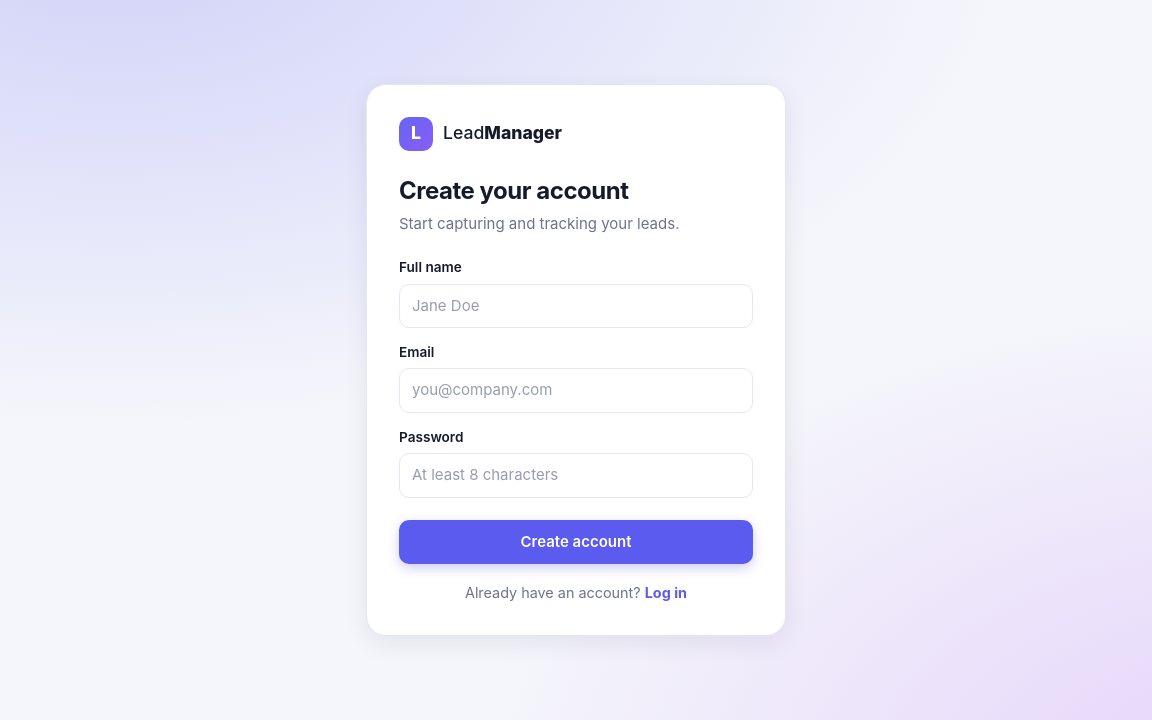
Test: Signup › shows the duplicate-email error from the server on the email field
Type "New User" into the field labelled "Full name" at (576, 306), box [399, 284, 753, 328]
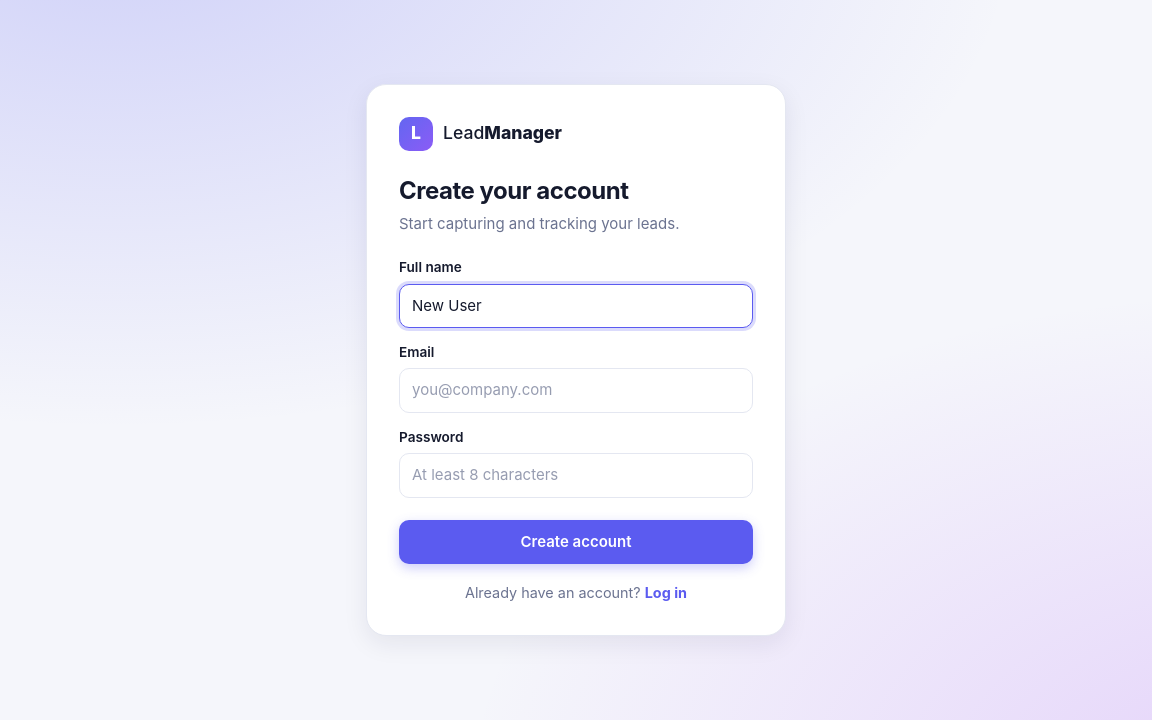
Type "new@example.com" into the field labelled "Email" at (576, 391), box [399, 368, 753, 413]
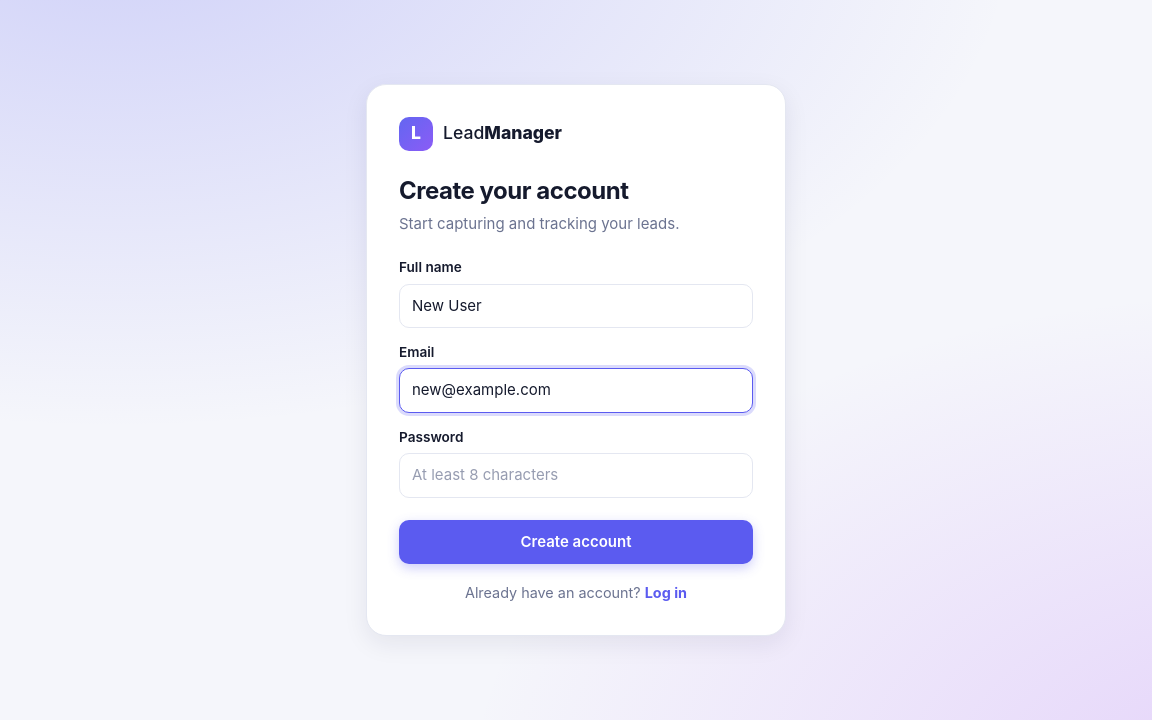
Type "password123" into the password field labelled "Password" at (576, 476), box [399, 453, 753, 498]
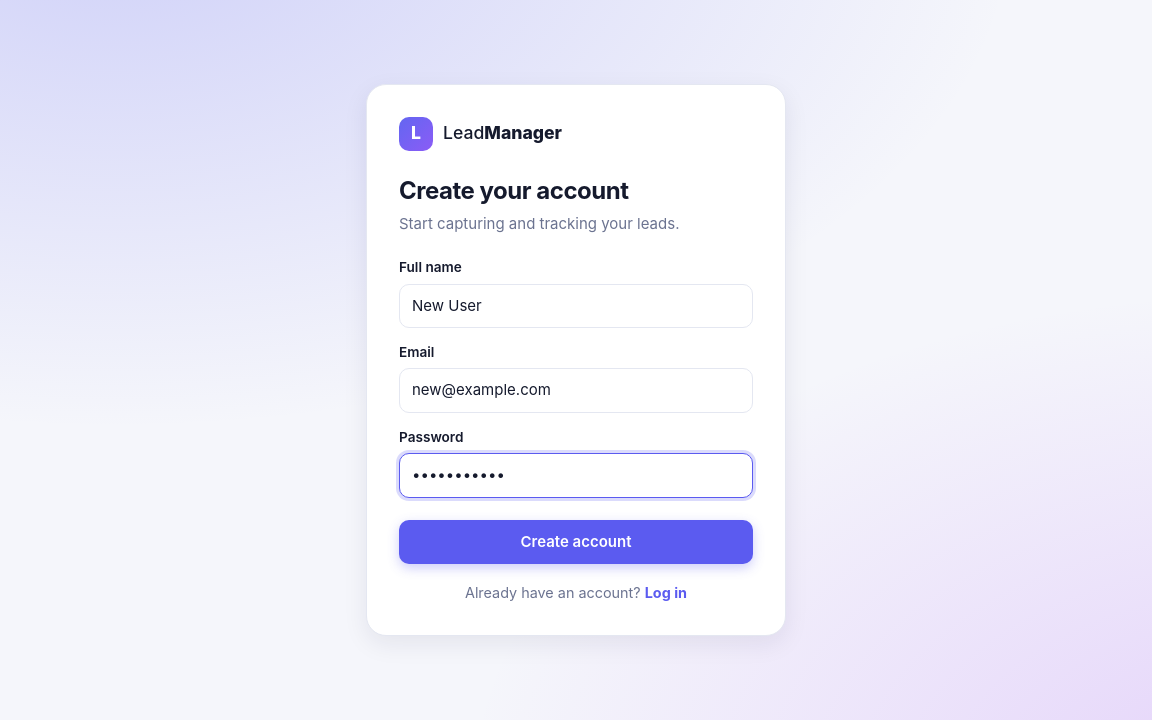
Click the button "Create account" at (576, 542), box [399, 520, 753, 564]
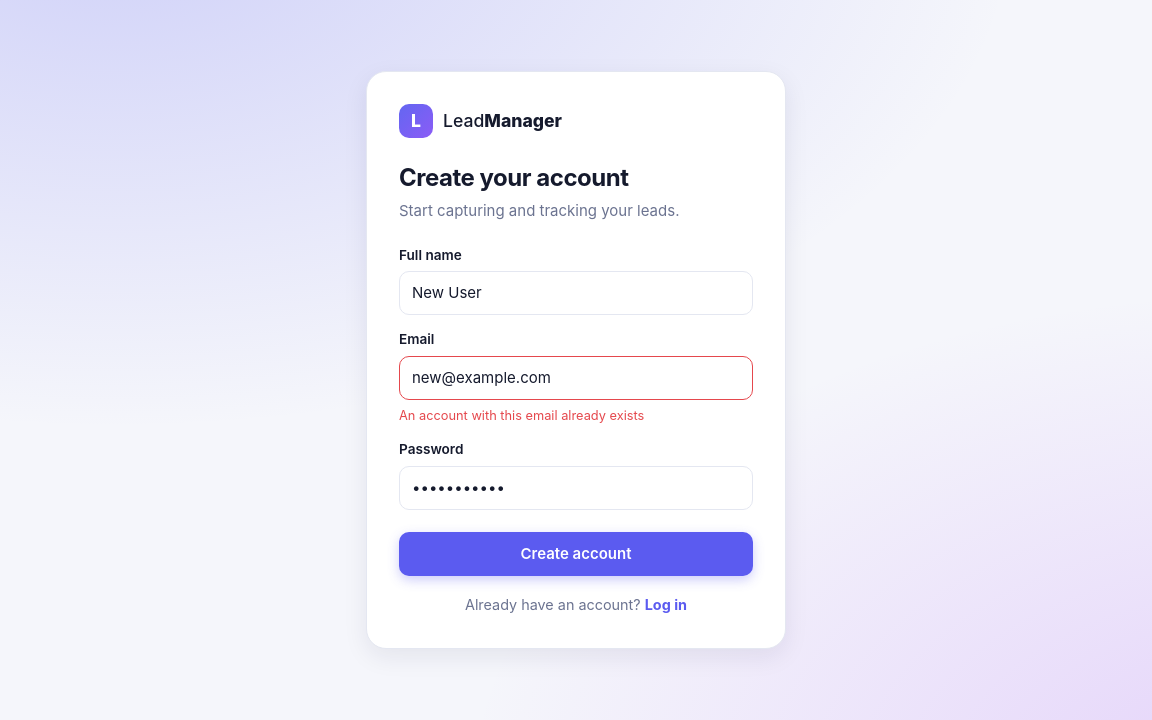
Check: the text "An account with this email already exists" is shown, box [399, 408, 644, 423]
